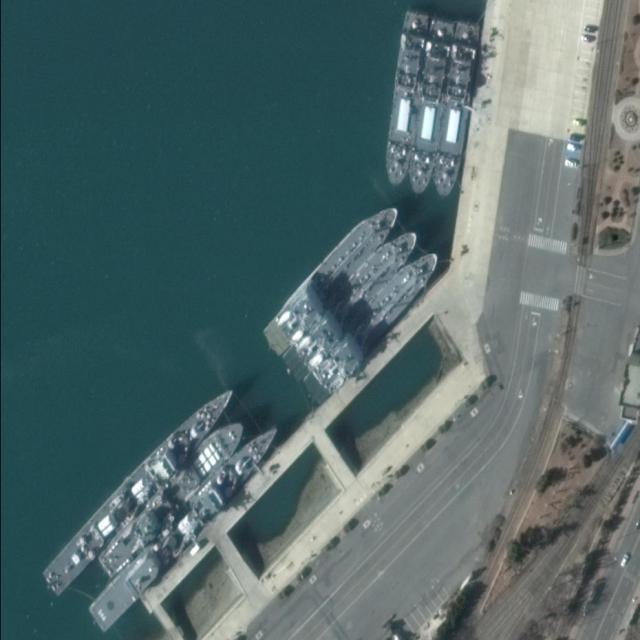Frigate: (35, 378, 243, 595), (81, 419, 288, 634)
Landing: (251, 195, 404, 362), (296, 243, 447, 407), (277, 221, 426, 382), (381, 10, 432, 188), (406, 17, 456, 195), (433, 18, 481, 198)
Other Warship: (94, 414, 253, 579)
